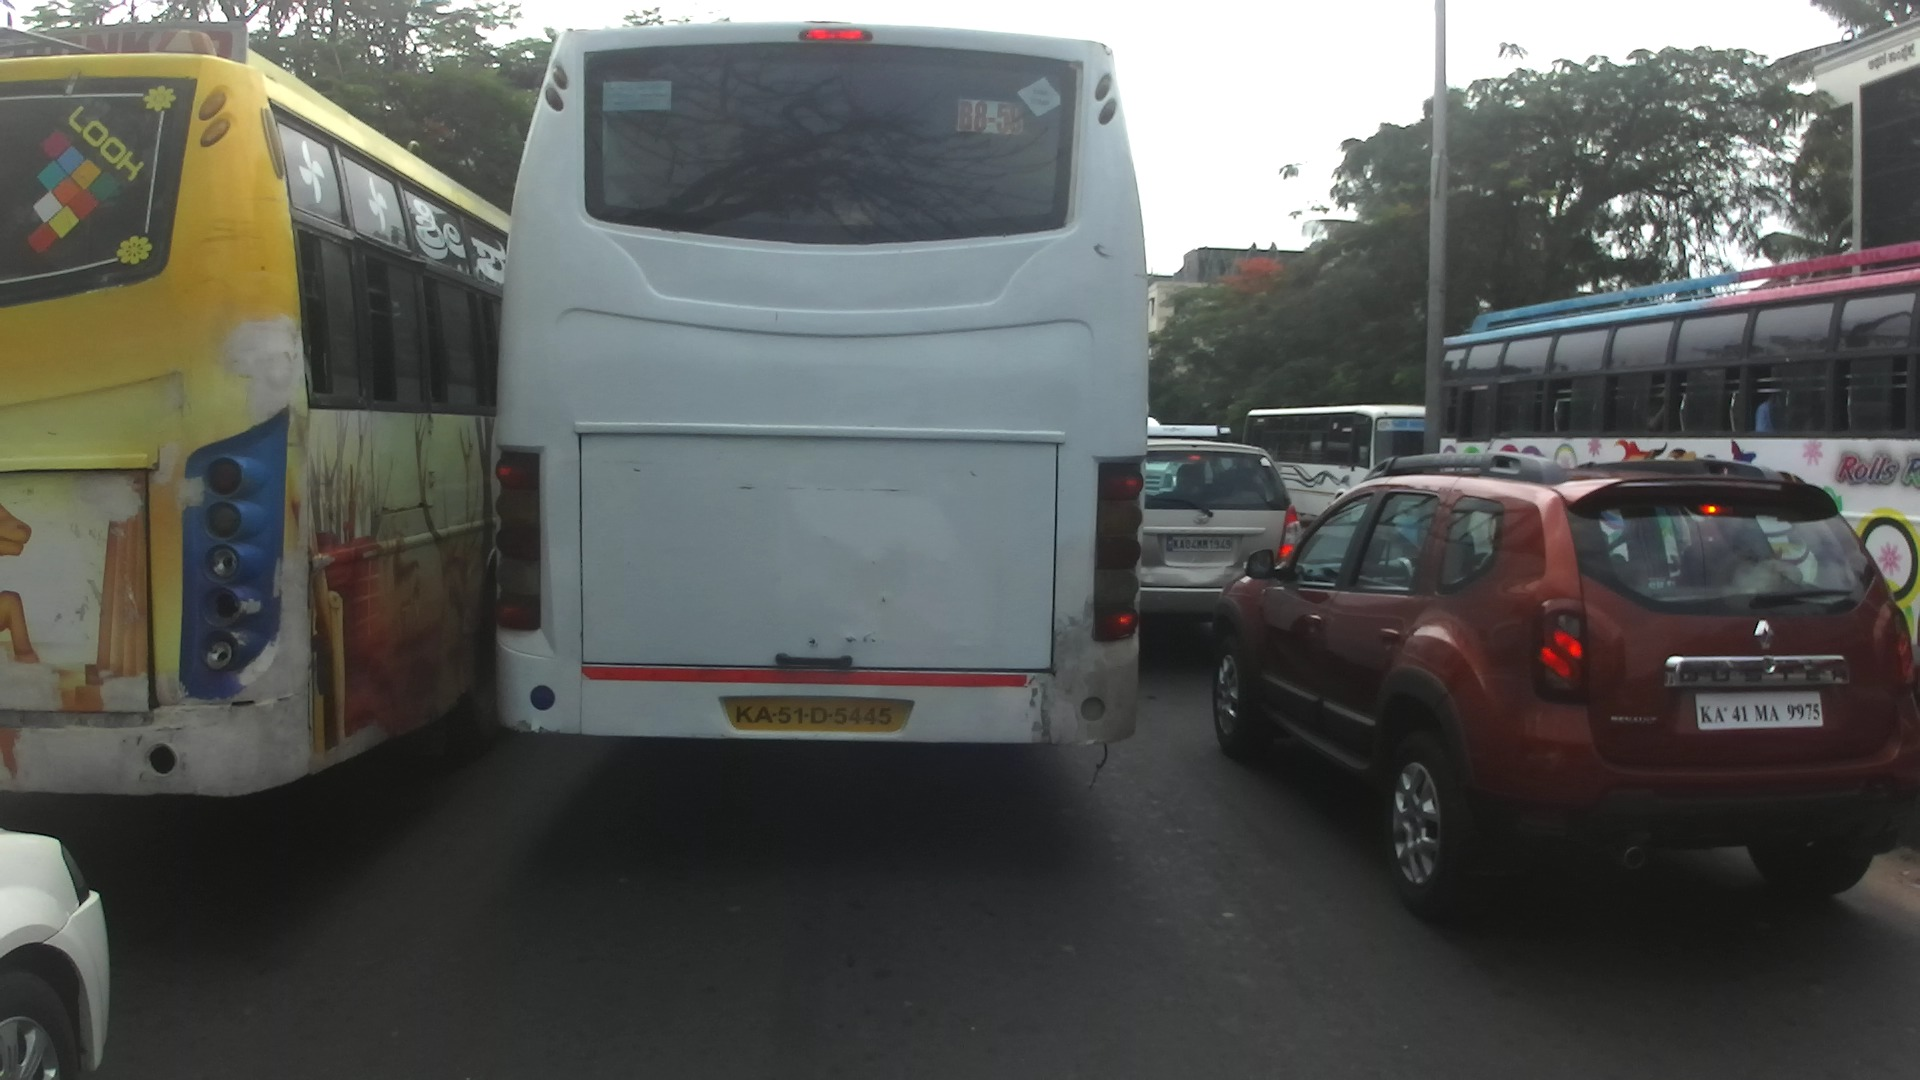bus: (485, 18, 1145, 749), (1, 21, 520, 800), (1443, 245, 1920, 723), (1238, 402, 1441, 522)
car: (1211, 460, 1920, 919), (1142, 418, 1296, 651), (1, 823, 113, 1080)
